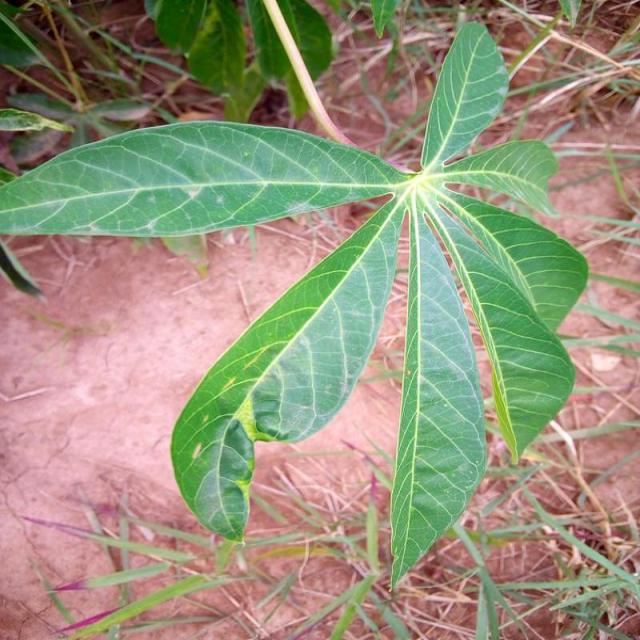cassava leaf: (1, 18, 589, 591), (170, 191, 408, 543), (0, 118, 414, 238), (423, 186, 588, 465), (389, 188, 487, 592)
